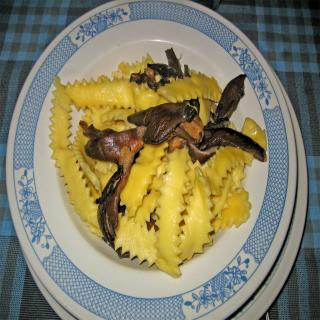Pasta: (53, 58, 261, 275)
